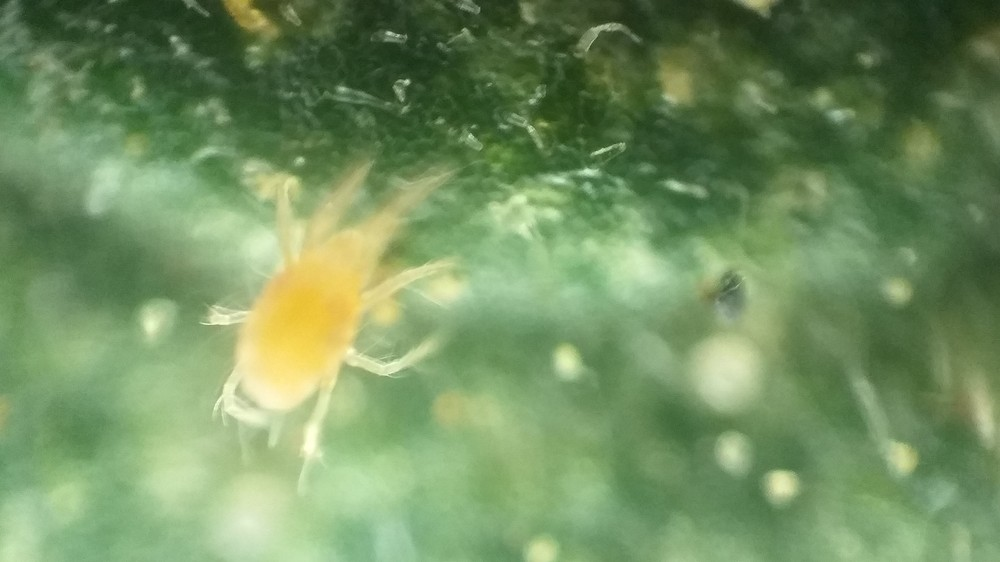Aracnido Rojo: (164, 149, 485, 516)
